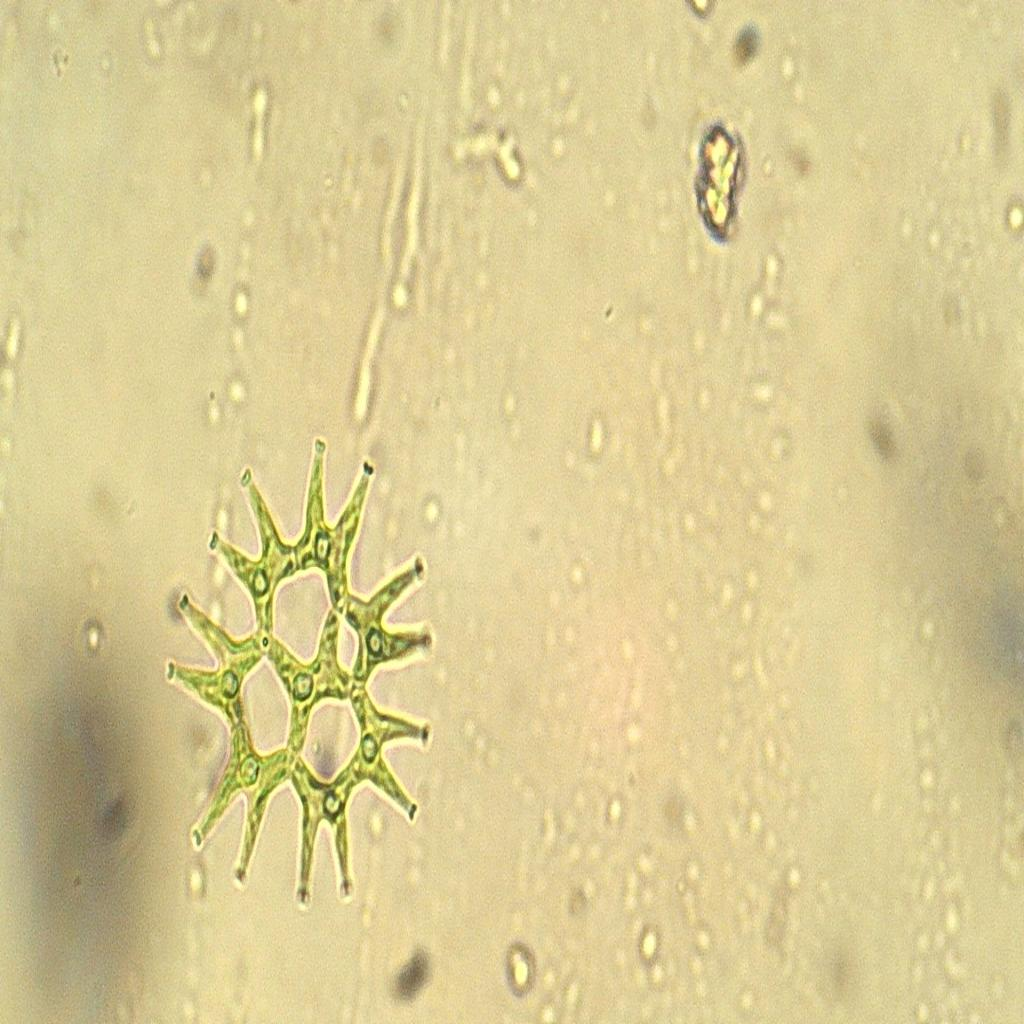Pediastrum_75T: (156, 410, 439, 916)
